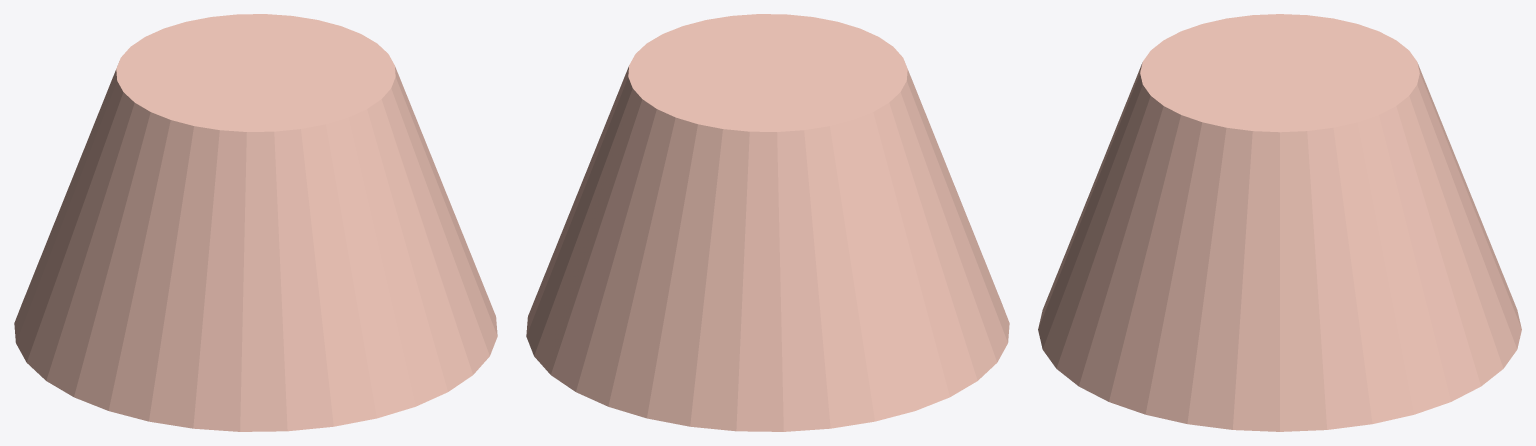
Rendered from lampu-top.fbx.
3 renders of one model, left to right at view 1: azimuth 30°, elevation 25°; view 2: azimuth 150°, elevation 25°; view 3: azimuth 270°, elevation 25°, orthographic.
Parts seen in each view (by area): view 1: Cylinder.005; view 2: Cylinder.005; view 3: Cylinder.005.
Part boxes in pixels (left/top/right/bottom): Cylinder.005: left=14, top=14, right=497, bottom=431; Cylinder.005: left=526, top=14, right=1009, bottom=431; Cylinder.005: left=1038, top=14, right=1521, bottom=431.
Size of the model in its own units: 111 by 64.76 by 111.
